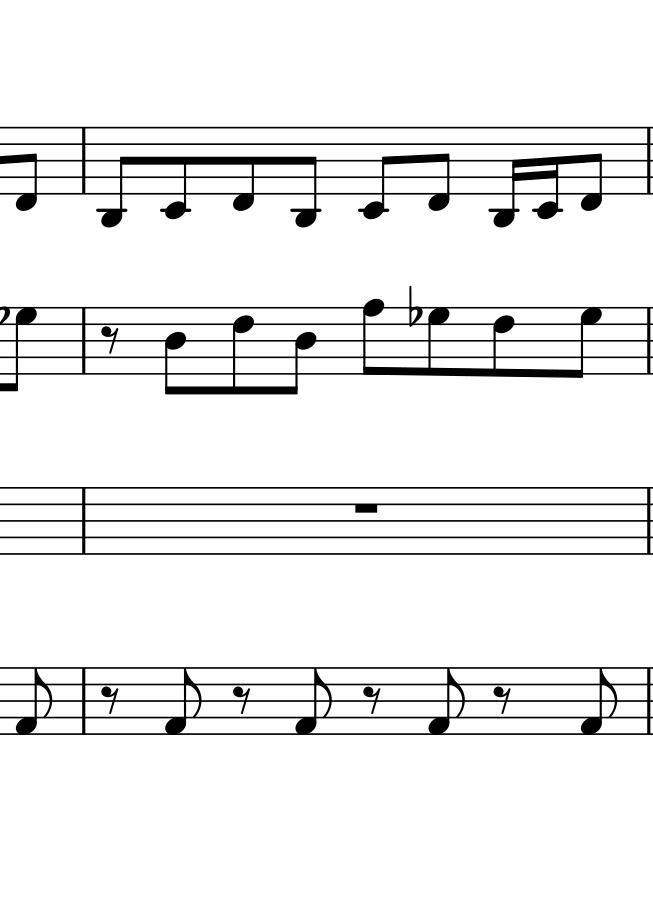16_-2: (535, 124, 561, 224)
16_-3: (488, 124, 524, 231)
8_-1: (231, 125, 257, 213), (579, 126, 604, 215), (427, 126, 451, 215), (15, 126, 38, 214)
8_-2: (359, 125, 395, 222), (162, 126, 189, 222)
8_-3: (96, 125, 130, 230), (291, 125, 321, 231)
8_1: (12, 668, 58, 735), (426, 667, 470, 737), (161, 667, 206, 734), (295, 667, 335, 733), (580, 668, 619, 734)
8_4: (283, 304, 320, 395), (162, 305, 188, 396)
8_6: (232, 304, 256, 399), (490, 307, 516, 378)
8_7: (2, 306, 41, 392), (566, 304, 603, 382), (426, 305, 452, 377)
8_8: (361, 297, 387, 375)
Flat: (407, 279, 422, 329)
Rests1: (351, 499, 382, 516)
Rests8: (491, 686, 516, 718), (97, 684, 120, 715), (232, 685, 252, 717), (362, 685, 382, 717), (102, 325, 121, 357)
Single_barline: (74, 667, 91, 735), (76, 127, 92, 193), (76, 308, 92, 372), (639, 667, 653, 735), (76, 487, 90, 552), (640, 487, 653, 554), (640, 127, 653, 193), (641, 308, 653, 375)
